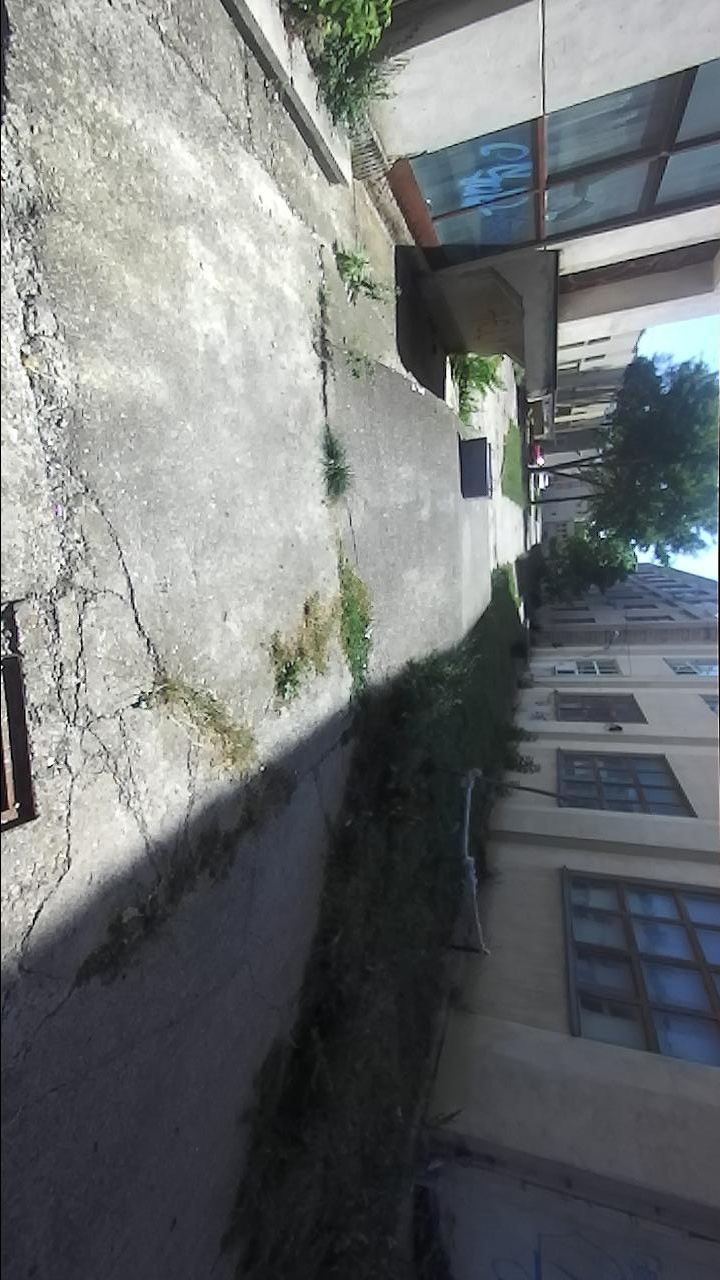drain: (2, 649, 46, 834)
